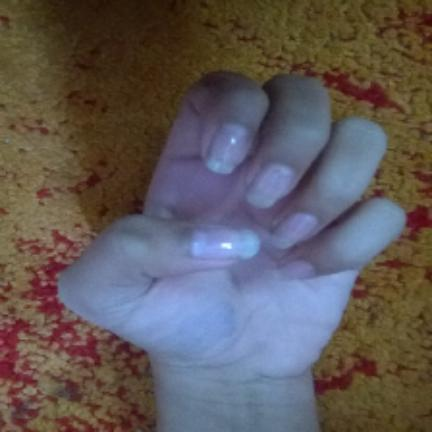Nail: (205, 121, 251, 177), (247, 162, 295, 210), (191, 228, 261, 260), (271, 211, 318, 249), (279, 262, 315, 280)
